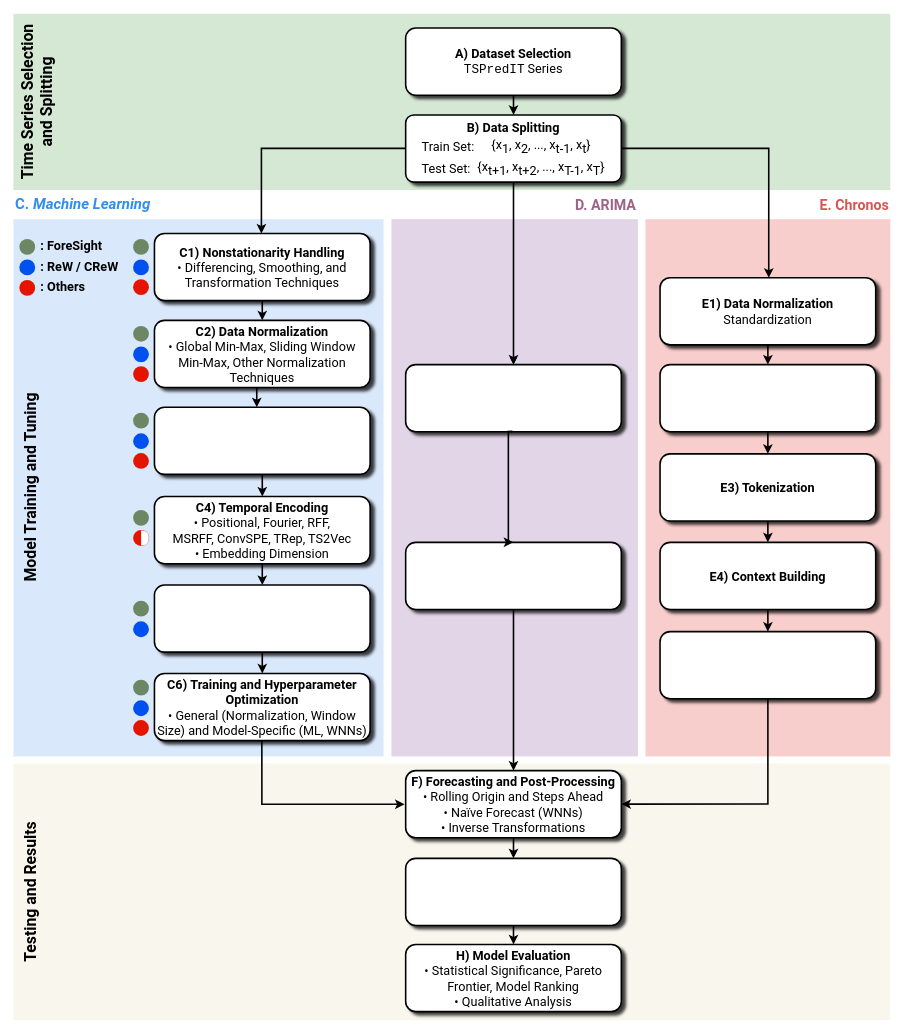
Some shapes in this 904 by 1033 pixel diagram are drawn without their labels. The centre of each missing label's shape, as x and y in pixels:
"C3) Time Series Windowing • Window Size" belongs at [264,442].
"C5) Binary Encoding • Distributed and Gaussian Thermometers • Number of Bits" belongs at [264,620].
"D1) Order- d Differencing ▽ d x i = x i − x i-1" belongs at [515,399].
"D2) AR ( ρ ) and MA( q ) Model Optimization" belongs at [515,577].
"E2) Data Augmentation • TSMixup • KernelSynth" belongs at [769,399].
"E5) Inference Strategies • Zero-Shot • Fine-Tuning" belongs at [769,666].
"G) Performance Metrics • sMAPE and Execution Time • Estimated Energy Consumption" belongs at [515,893].
